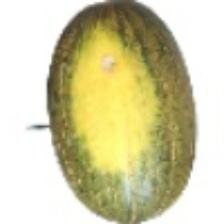honeydew: (36, 42, 193, 191)
